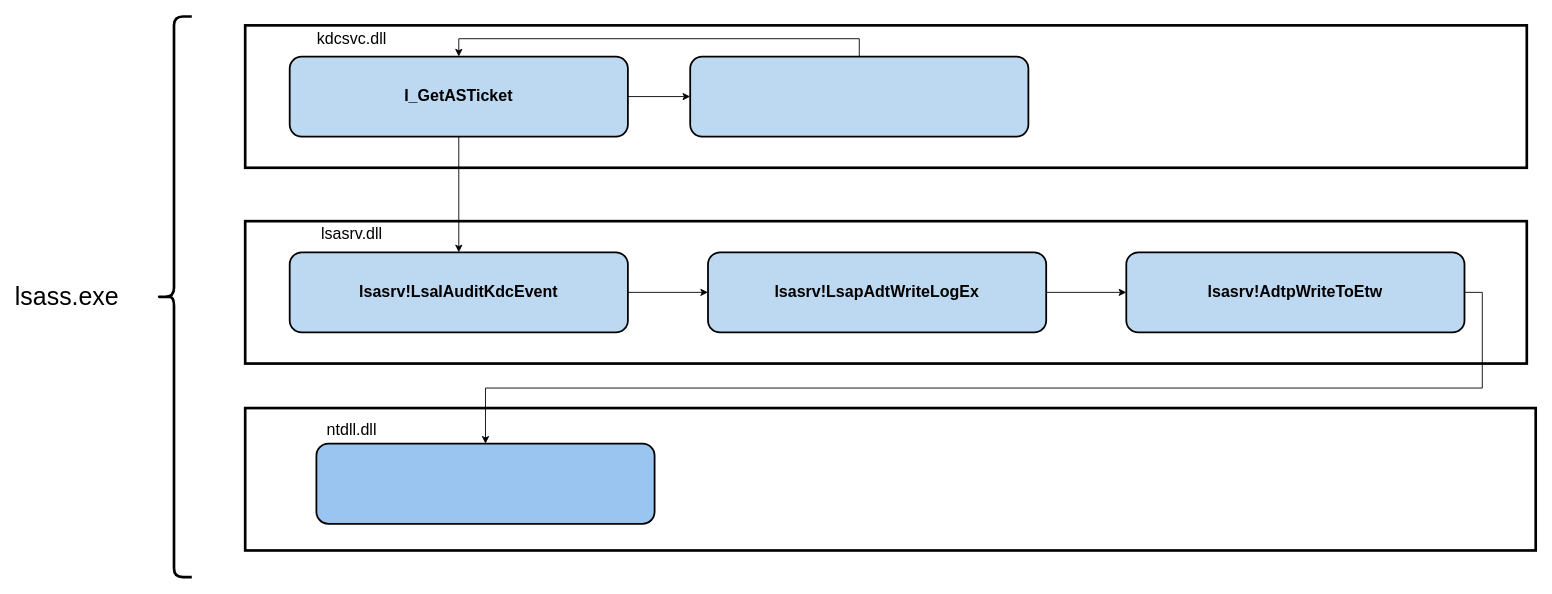
Image size: 1552x594. Some labels were removed from this diagram. The centre of each missing label's shape, as x and y in pixels:
"FailedLogon" goes at point 859,96.
"ntdll!EtwWriteUMSecurityEvent" goes at point 485,483.
